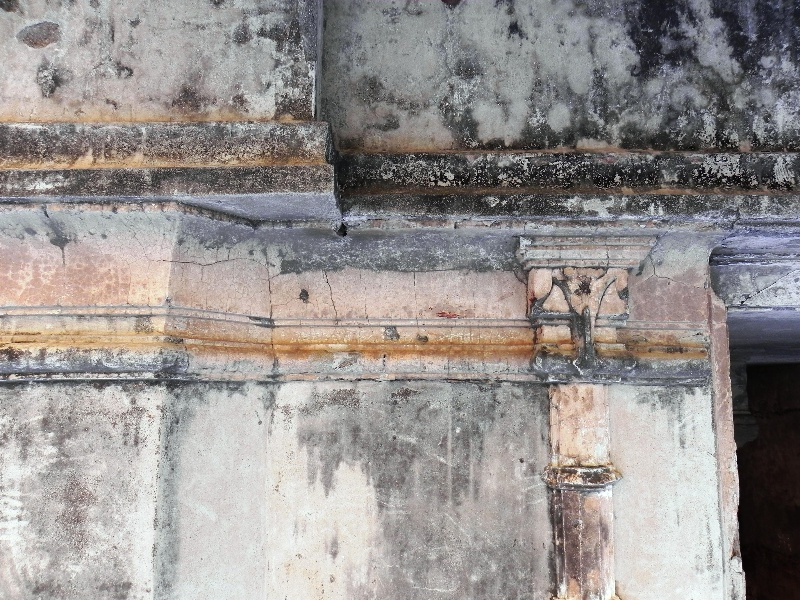Spalling: (377, 315, 416, 365)
